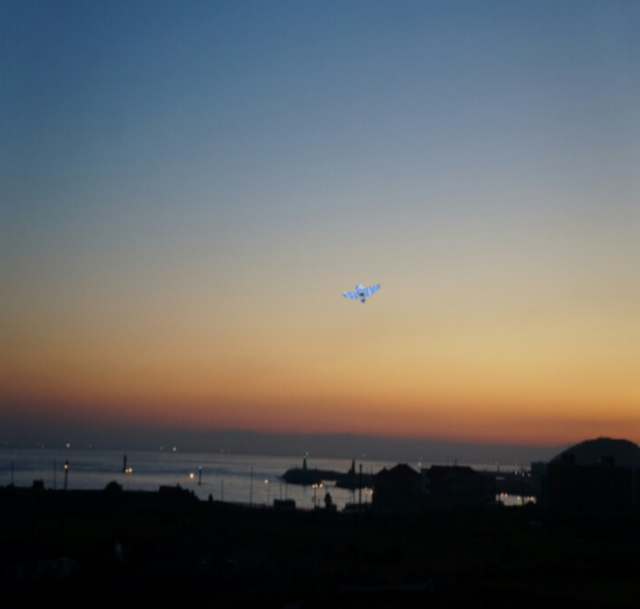military drone: (341, 283, 380, 303)
